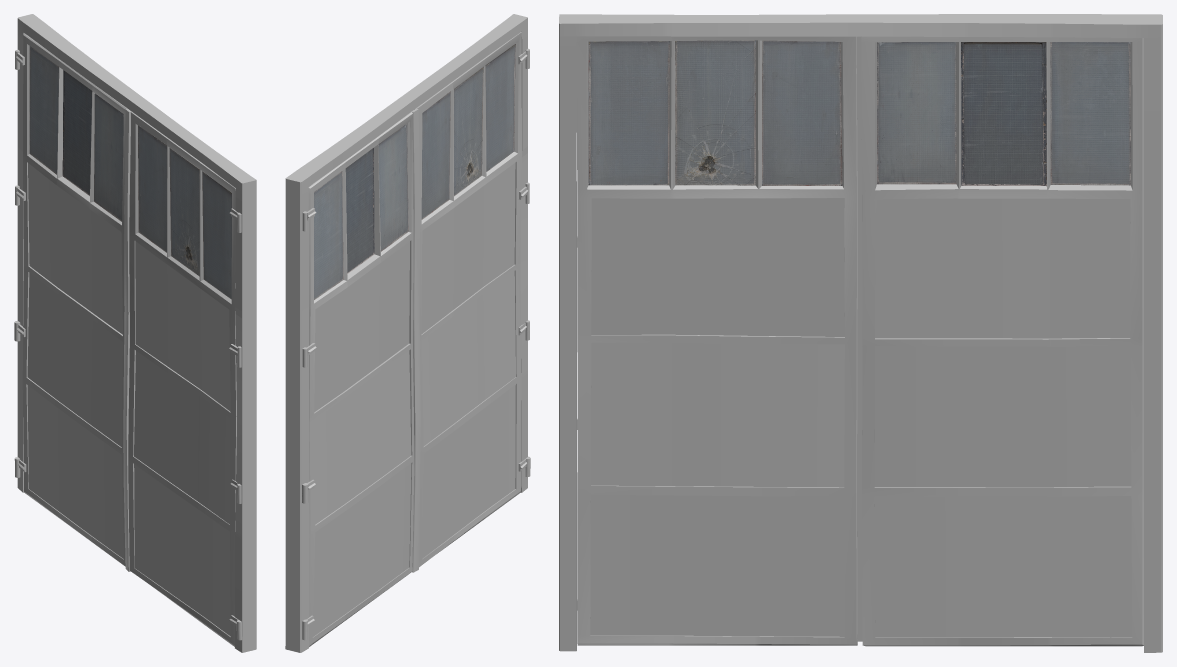
The model's file is sm_WarehouseDoor_01_04.fbx.
The picture shows the model from 3 angles, left to right: view 1: azimuth 30°, elevation 25°; view 2: azimuth 150°, elevation 25°; view 3: azimuth 270°, elevation 25°; orthographic projection. The views are drawn at different scales.
Visible parts, largest first — view 1: sm_WarehouseDoor_01_04_LOD0; view 2: sm_WarehouseDoor_01_04_LOD0; view 3: sm_WarehouseDoor_01_04_LOD0.
Part boxes in pixels (<box>): sm_WarehouseDoor_01_04_LOD0: <box>14,14,256,652</box>; sm_WarehouseDoor_01_04_LOD0: <box>285,14,530,652</box>; sm_WarehouseDoor_01_04_LOD0: <box>559,14,1162,652</box>.
Size of the model in its own units: 17.28 by 305 by 350.
